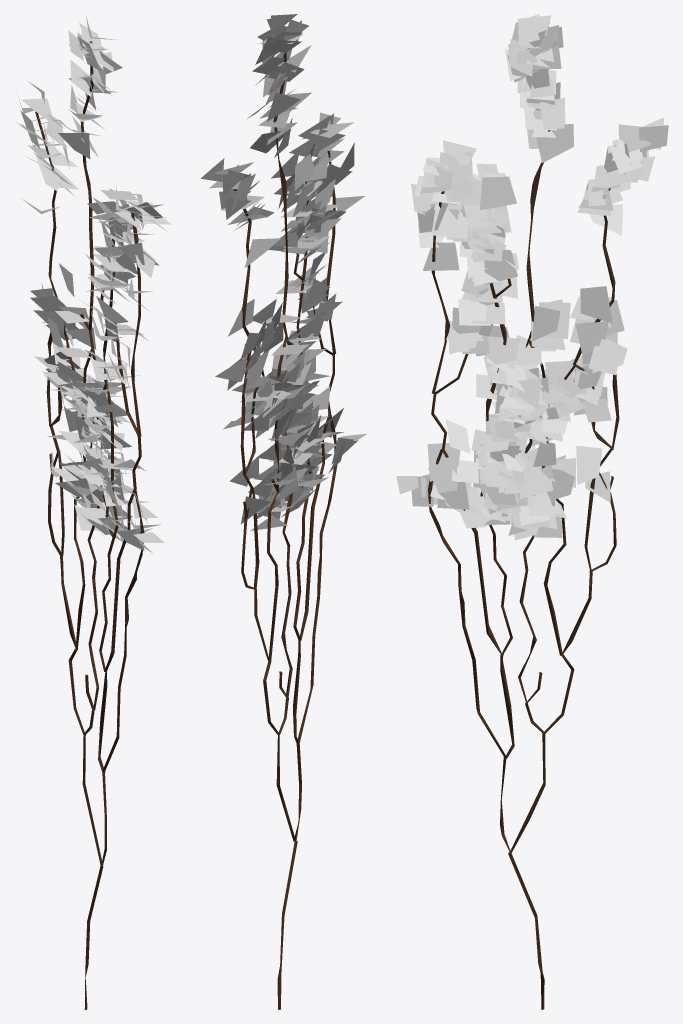
The model's file is Vines_2.fbx.
The picture shows the model from 3 angles, left to right: view 1: azimuth 30°, elevation 25°; view 2: azimuth 150°, elevation 25°; view 3: azimuth 270°, elevation 25°; orthographic projection.
Parts seen in each view (by area): view 1: IvyLeaf.001, IVY_Curve.001; view 2: IvyLeaf.001, IVY_Curve.001; view 3: IvyLeaf.001, IVY_Curve.001.
Part boxes in pixels (left/top/right/bottom): IvyLeaf.001: left=16, top=15, right=171, bottom=552; IVY_Curve.001: left=35, top=41, right=144, bottom=1009; IvyLeaf.001: left=200, top=14, right=366, bottom=530; IVY_Curve.001: left=233, top=30, right=337, bottom=1009; IvyLeaf.001: left=396, top=14, right=668, bottom=540; IVY_Curve.001: left=428, top=130, right=619, bottom=1009.
Size of the model in its own units: 65.84 by 1127 by 279.
